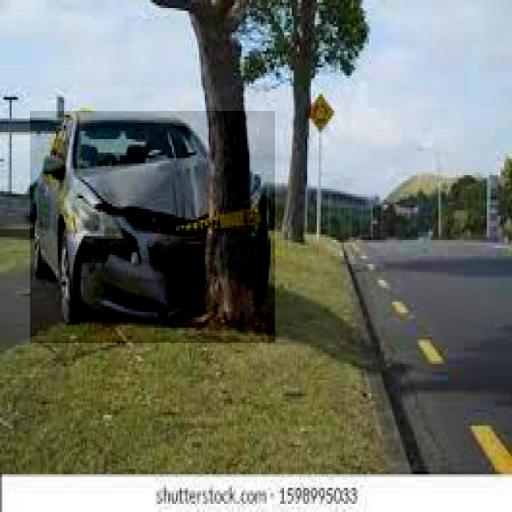小汽车撞物: (30, 112, 275, 344)
